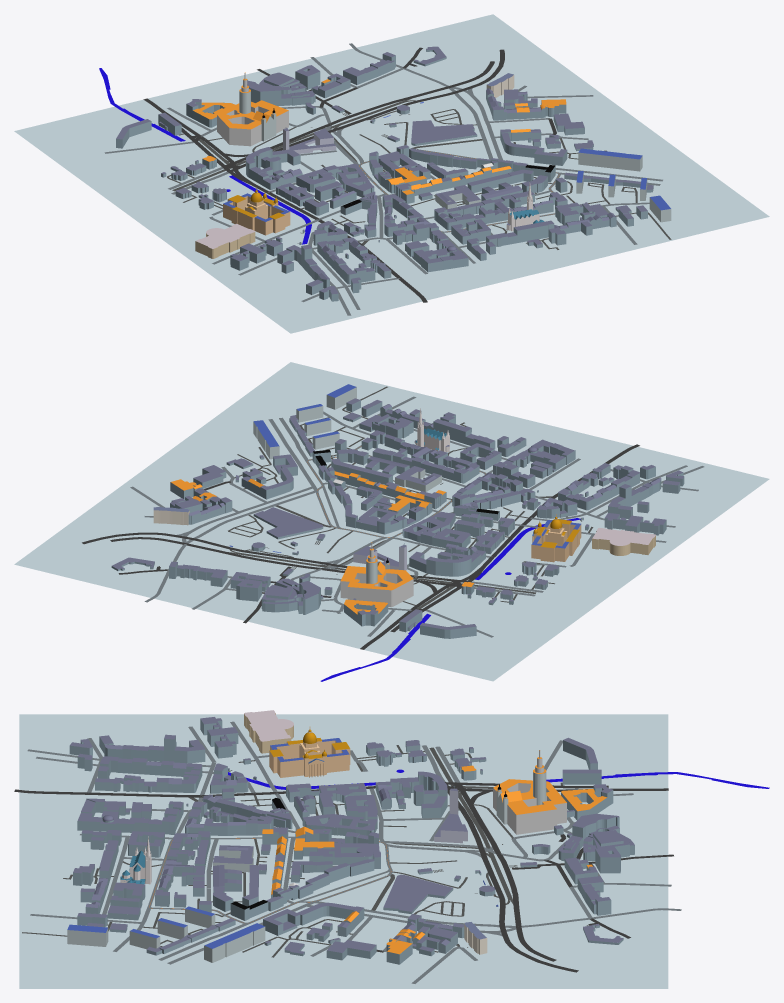
The model's file is poughkeepsie-sierra.gltf.
3 views of the same model, one above another, from view 1: azimuth 30°, elevation 25°; view 2: azimuth 150°, elevation 25°; view 3: azimuth 270°, elevation 25° (orthographic). The views are drawn at different scales.
Visible parts, largest first — view 1: Plane, map_5.osm_buildings, map_5.osm_roads_residential, map_5.osm_roads_primary, map_5.osm_roads_service, map_5.osm_roads_secondary, map_5.osm_water; view 2: Plane, map_5.osm_buildings, map_5.osm_roads_residential, map_5.osm_roads_primary, map_5.osm_roads_service, map_5.osm_roads_secondary, map_5.osm_water; view 3: Plane, map_5.osm_buildings, map_5.osm_roads_residential, map_5.osm_roads_primary, map_5.osm_roads_service, map_5.osm_roads_secondary, Plane.002, map_5.osm_water, map_5.osm_roads_pedestrian.
Boxes of the visible parts, box(x1,y1,x2,y2) form: Plane: box(14, 14, 769, 333); map_5.osm_buildings: box(116, 46, 671, 301); map_5.osm_roads_residential: box(104, 43, 649, 315); map_5.osm_roads_primary: box(143, 49, 504, 302); map_5.osm_roads_service: box(167, 98, 671, 249); map_5.osm_roads_secondary: box(168, 87, 662, 263); map_5.osm_water: box(99, 68, 311, 244); Plane: box(14, 362, 769, 681); map_5.osm_buildings: box(111, 384, 684, 638); map_5.osm_roads_residential: box(130, 396, 704, 637); map_5.osm_roads_primary: box(82, 444, 639, 649); map_5.osm_roads_service: box(228, 386, 593, 609); map_5.osm_roads_secondary: box(177, 417, 543, 596); map_5.osm_water: box(320, 518, 580, 681); Plane: box(19, 714, 668, 988); map_5.osm_buildings: box(67, 710, 634, 964); map_5.osm_roads_residential: box(27, 721, 681, 983); map_5.osm_roads_primary: box(14, 782, 668, 972); map_5.osm_roads_service: box(22, 745, 563, 957); map_5.osm_roads_secondary: box(80, 745, 516, 964); Plane.002: box(148, 836, 392, 924); map_5.osm_water: box(228, 769, 769, 789); map_5.osm_roads_pedestrian: box(376, 834, 673, 952).
Bounding box in the file's own units: 1035 × 115 × 1205.
